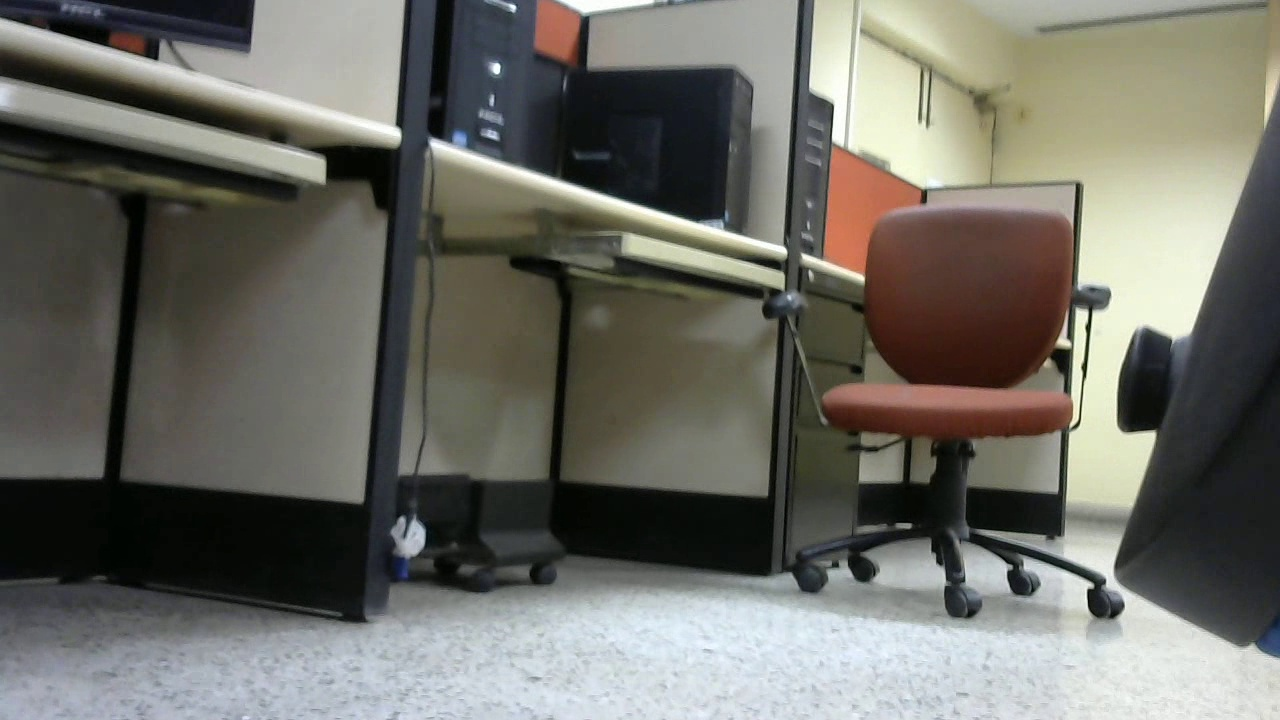chair: (751, 194, 1134, 643)
